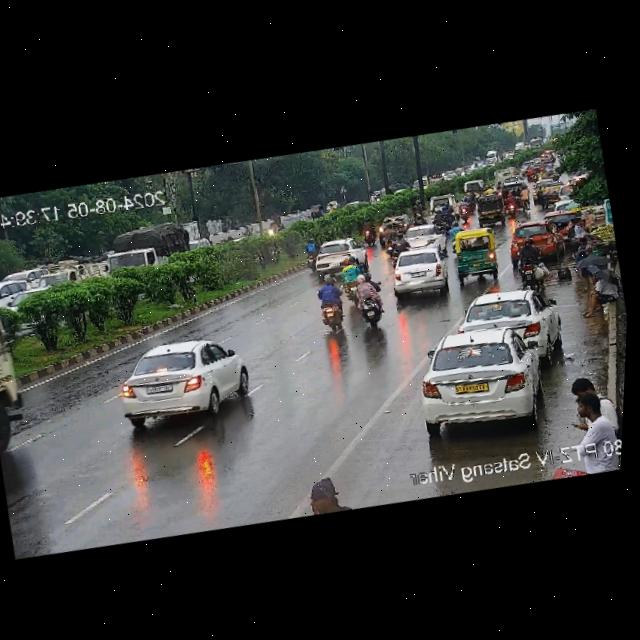car: (411, 317, 554, 438), (109, 327, 260, 436), (455, 280, 564, 363), (384, 243, 452, 305), (445, 222, 508, 286), (504, 213, 561, 264), (304, 234, 367, 276), (0, 265, 35, 317), (402, 220, 446, 254), (470, 192, 505, 226), (376, 212, 411, 242), (541, 198, 572, 226), (498, 181, 530, 204), (537, 181, 561, 209)
motorcycle: (349, 267, 388, 332), (311, 266, 348, 332), (510, 233, 550, 290), (334, 251, 370, 304), (429, 199, 460, 231), (302, 233, 322, 271), (379, 221, 398, 257), (456, 192, 480, 220), (360, 213, 377, 248), (391, 230, 409, 263), (516, 183, 533, 216), (505, 191, 519, 216)
person: (295, 470, 355, 519), (574, 275, 620, 322), (568, 388, 607, 438), (564, 361, 605, 406), (571, 237, 601, 293), (561, 217, 590, 250)
truck: (0, 286, 39, 455), (98, 216, 195, 279), (36, 261, 102, 296)
